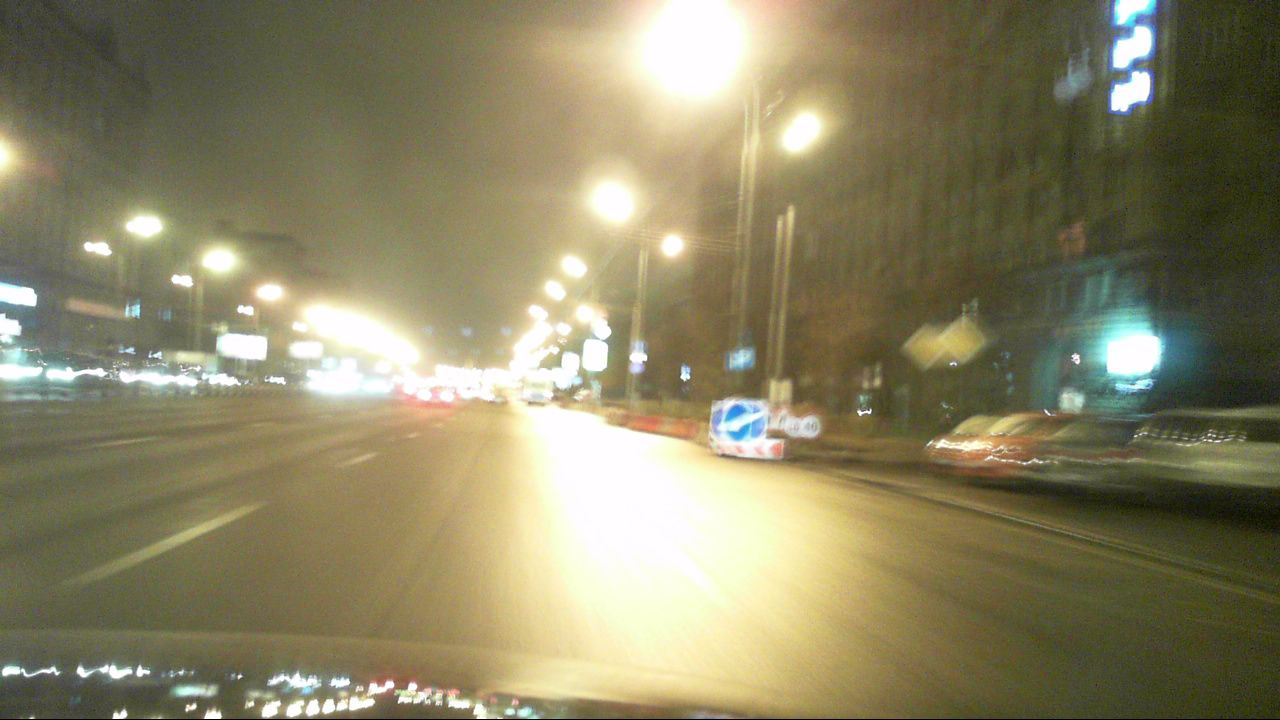speed_warning_40: (798, 415, 821, 439)
